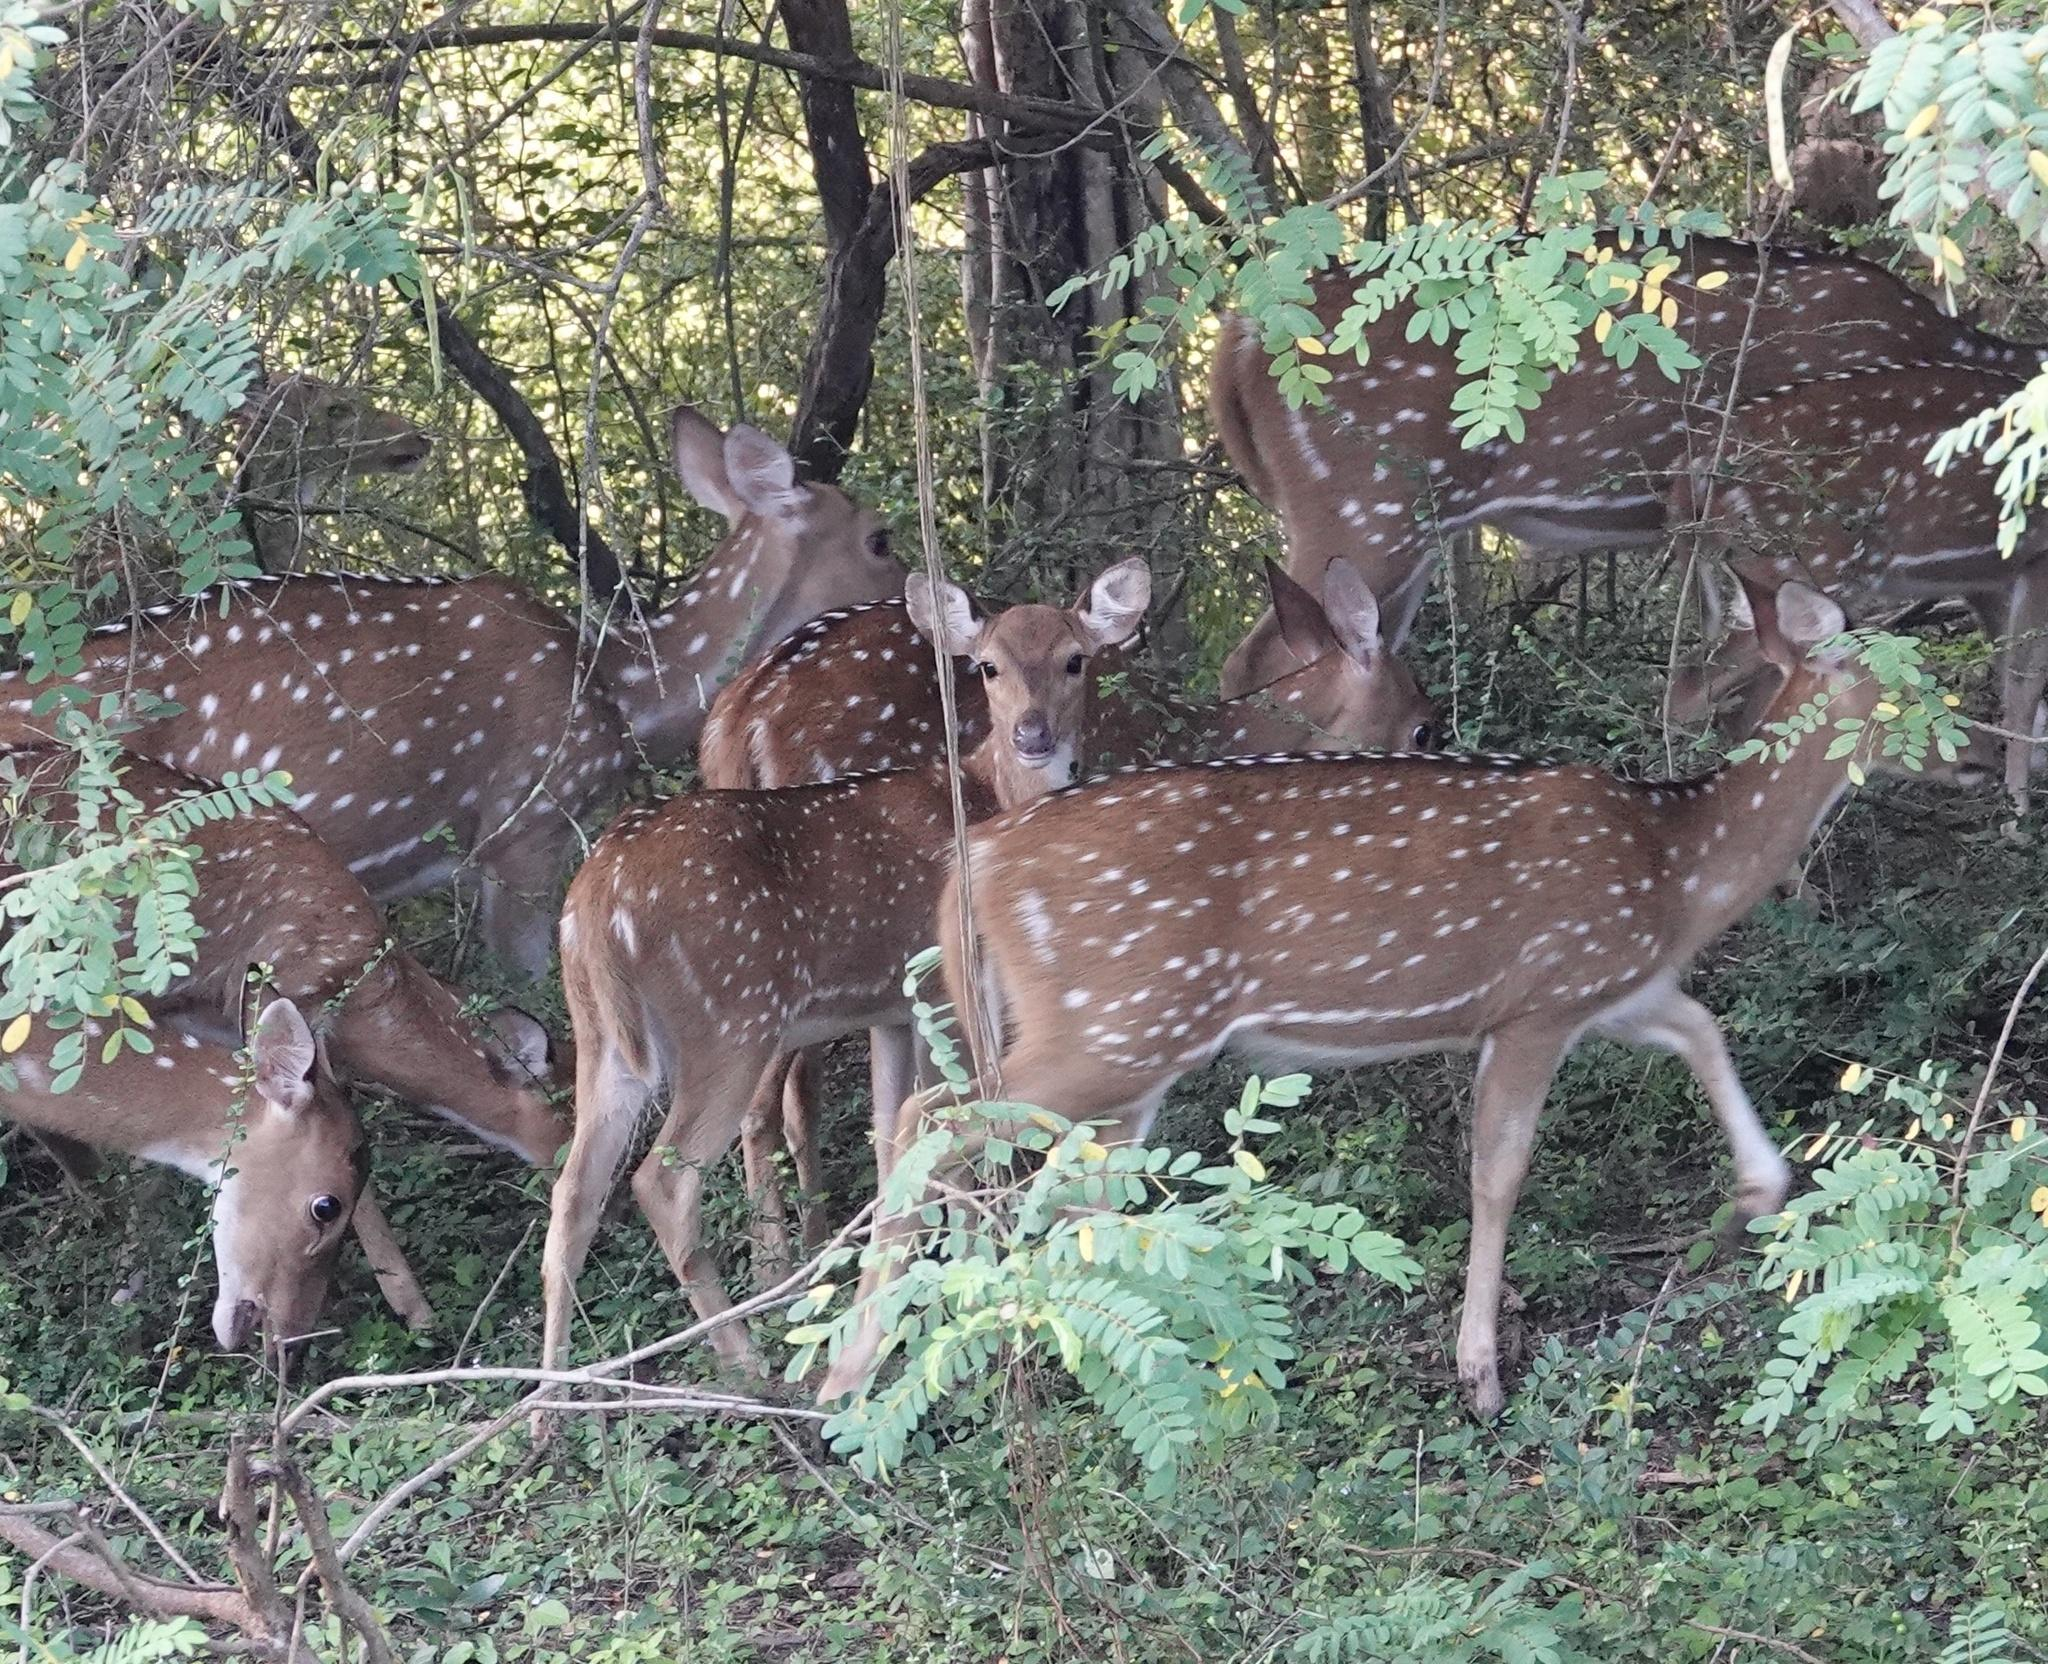Deer: (970, 582, 1878, 1414), (543, 761, 953, 1367), (126, 574, 639, 975), (0, 1002, 357, 1348), (593, 406, 905, 756), (328, 947, 571, 1166), (959, 559, 1148, 808), (700, 598, 942, 786), (190, 807, 385, 1027), (126, 752, 211, 807), (1921, 723, 1994, 779)
